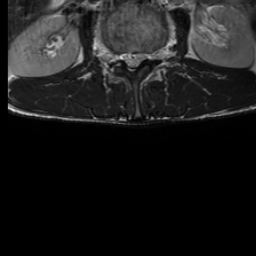CCS_stenosis: (129, 46, 136, 78)
LFS_stenosis: (145, 46, 153, 66)
LLS_stenosis: (136, 46, 144, 70)
RFS_stenosis: (112, 45, 121, 69)
RLS_normal: (121, 47, 129, 71)
